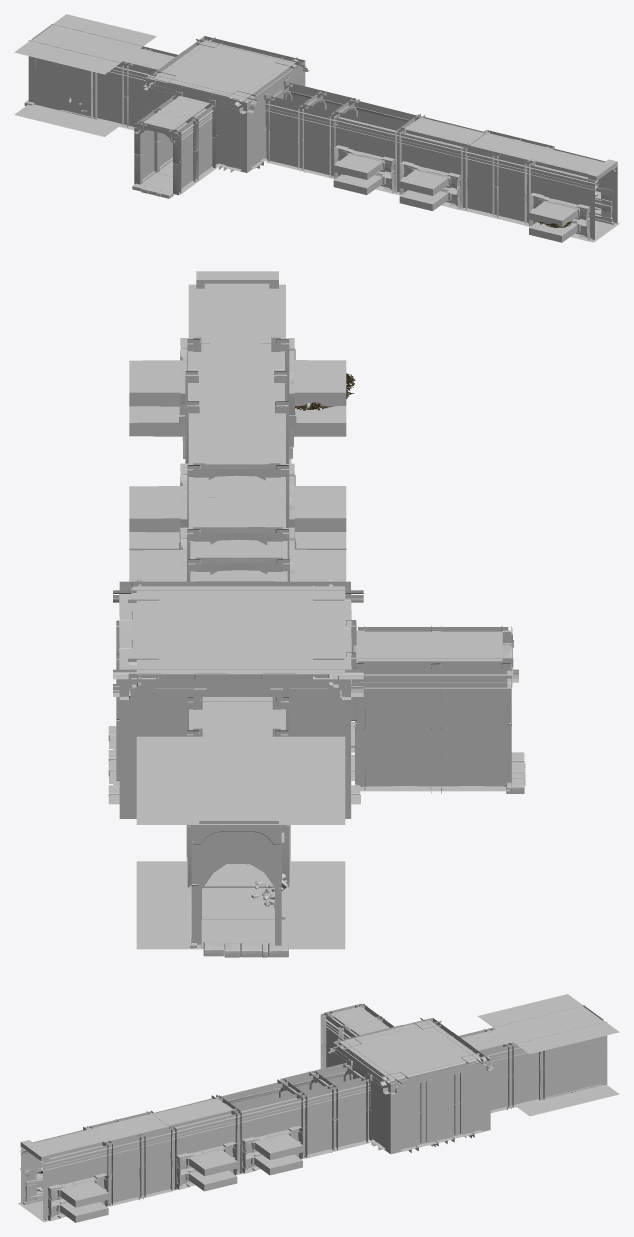
The model's file is Interior_Hallway A.fbx.
3 views of the same model, one above another, from view 1: azimuth 30°, elevation 25°; view 2: azimuth 150°, elevation 25°; view 3: azimuth 270°, elevation 25° (orthographic). The views are drawn at different scales.
Parts seen in each view (by area): view 1: HallwayNarrowCATAMOP_B_2, HallwayNarrowIntCATAM_C_LOD1_002, HallwayNarrowIntCATAM_C_LOD1_004, PlaneQuad, HallwayNarrowCATAM_B_LOD1_004, HallwayNarrowCATAM_A_LOD1_005_1, HallwayNarrowCATAMOP_B_2_LOD1_003_2, HallwayNarrowCATAM_A_LOD1_002_1, HallwayNarrowCATAMOP_B_2_LOD1_003_1, HallwayNarrowCATAM_A_LOD1_002, HallwayNarrowCATAMOP_B_2_LOD1_002_1, HallwayNarrowCATAM_A_LOD1_005 (+22 smaller); view 2: HallwayNarrowCATAMOP_B_2_LOD1_003_1, HallwayNarrowIntCATAM_C_LOD1_004, PlaneQuad, GroundTileCATAM_B__23_, HallwayNarrowIntCATAM_C_LOD1_002, HallwayNarrowCATAM_A_LOD1_005_1, HallwayNarrowCATAM_A_LOD1_005_2, HallwayNarrowIntCATAM_C_LOD1_005, HallwayNarrowCATAMOP_B_2_LOD1_1, HallwayNarrowCATAM_B_LOD1_002, HallwayNarrowCATAM_A_LOD1_2, HallwayNarrowCATAM_A_LOD1_005 (+18 smaller); view 3: HallwayNarrowIntCATAM_C_LOD1_002, HallwayNarrowCATAMOP_B_2, HallwayNarrowIntCATAM_C_LOD1_004, PlaneQuad, HallwayNarrowCATAM_B_LOD1_004, HallwayNarrowCATAMOP_B_2_LOD1_003_2, HallwayNarrowCATAM_A_LOD1_005_1, HallwayNarrowCATAM_A_LOD1_002_1, HallwayNarrowCATAM_A_LOD1_002, HallwayNarrowCATAM_A_LOD1_005_2, HallwayNarrowCATAM_A_LOD1_005, HallwayNarrowCATAM_A_LOD1_002_2 (+19 smaller).
Boxes of the visible parts, x1,y1,x2,y2 form: HallwayNarrowCATAMOP_B_2: [264, 82, 359, 178]; HallwayNarrowIntCATAM_C_LOD1_002: [146, 36, 305, 172]; HallwayNarrowIntCATAM_C_LOD1_004: [153, 40, 295, 100]; PlaneQuad: [14, 14, 156, 74]; HallwayNarrowCATAM_B_LOD1_004: [464, 130, 554, 222]; HallwayNarrowCATAM_A_LOD1_005_1: [529, 187, 612, 242]; HallwayNarrowCATAMOP_B_2_LOD1_003_2: [94, 40, 177, 126]; HallwayNarrowCATAM_A_LOD1_002_1: [528, 148, 617, 239]; HallwayNarrowCATAMOP_B_2_LOD1_003_1: [137, 95, 213, 188]; HallwayNarrowCATAM_A_LOD1_002: [333, 101, 421, 192]; HallwayNarrowCATAMOP_B_2_LOD1_002_1: [134, 94, 217, 194]; HallwayNarrowCATAM_A_LOD1_005: [333, 145, 394, 194]; HallwayNarrowCATAMOP_B_2_LOD1_003_1: [357, 627, 508, 786]; HallwayNarrowIntCATAM_C_LOD1_004: [136, 586, 345, 674]; PlaneQuad: [136, 736, 345, 824]; GroundTileCATAM_B__23_: [136, 861, 345, 949]; HallwayNarrowIntCATAM_C_LOD1_002: [119, 581, 350, 818]; HallwayNarrowCATAM_A_LOD1_005_1: [129, 338, 346, 458]; HallwayNarrowCATAM_A_LOD1_005_2: [129, 463, 346, 550]; HallwayNarrowIntCATAM_C_LOD1_005: [113, 579, 363, 780]; HallwayNarrowCATAMOP_B_2_LOD1_1: [356, 631, 502, 661]; HallwayNarrowCATAM_B_LOD1_002: [201, 337, 271, 400]; HallwayNarrowCATAM_A_LOD1_2: [204, 401, 269, 464]; HallwayNarrowCATAM_A_LOD1_005: [129, 527, 346, 581]; HallwayNarrowIntCATAM_C_LOD1_002: [332, 1018, 490, 1154]; HallwayNarrowCATAMOP_B_2: [277, 1062, 372, 1158]; HallwayNarrowIntCATAM_C_LOD1_004: [339, 1020, 481, 1080]; PlaneQuad: [478, 994, 619, 1054]; HallwayNarrowCATAM_B_LOD1_004: [84, 1111, 173, 1204]; HallwayNarrowCATAMOP_B_2_LOD1_003_2: [458, 1022, 540, 1110]; HallwayNarrowCATAM_A_LOD1_005_1: [25, 1168, 108, 1222]; HallwayNarrowCATAM_A_LOD1_002_1: [21, 1129, 106, 1219]; HallwayNarrowCATAM_A_LOD1_002: [221, 1082, 303, 1172]; HallwayNarrowCATAM_A_LOD1_005_2: [176, 1142, 237, 1191]; HallwayNarrowCATAM_A_LOD1_005: [242, 1126, 303, 1175]; HallwayNarrowCATAM_A_LOD1_002_2: [154, 1098, 238, 1187].
Size of what is drawn, in the model's own units: 3918 by 824 by 5806.
